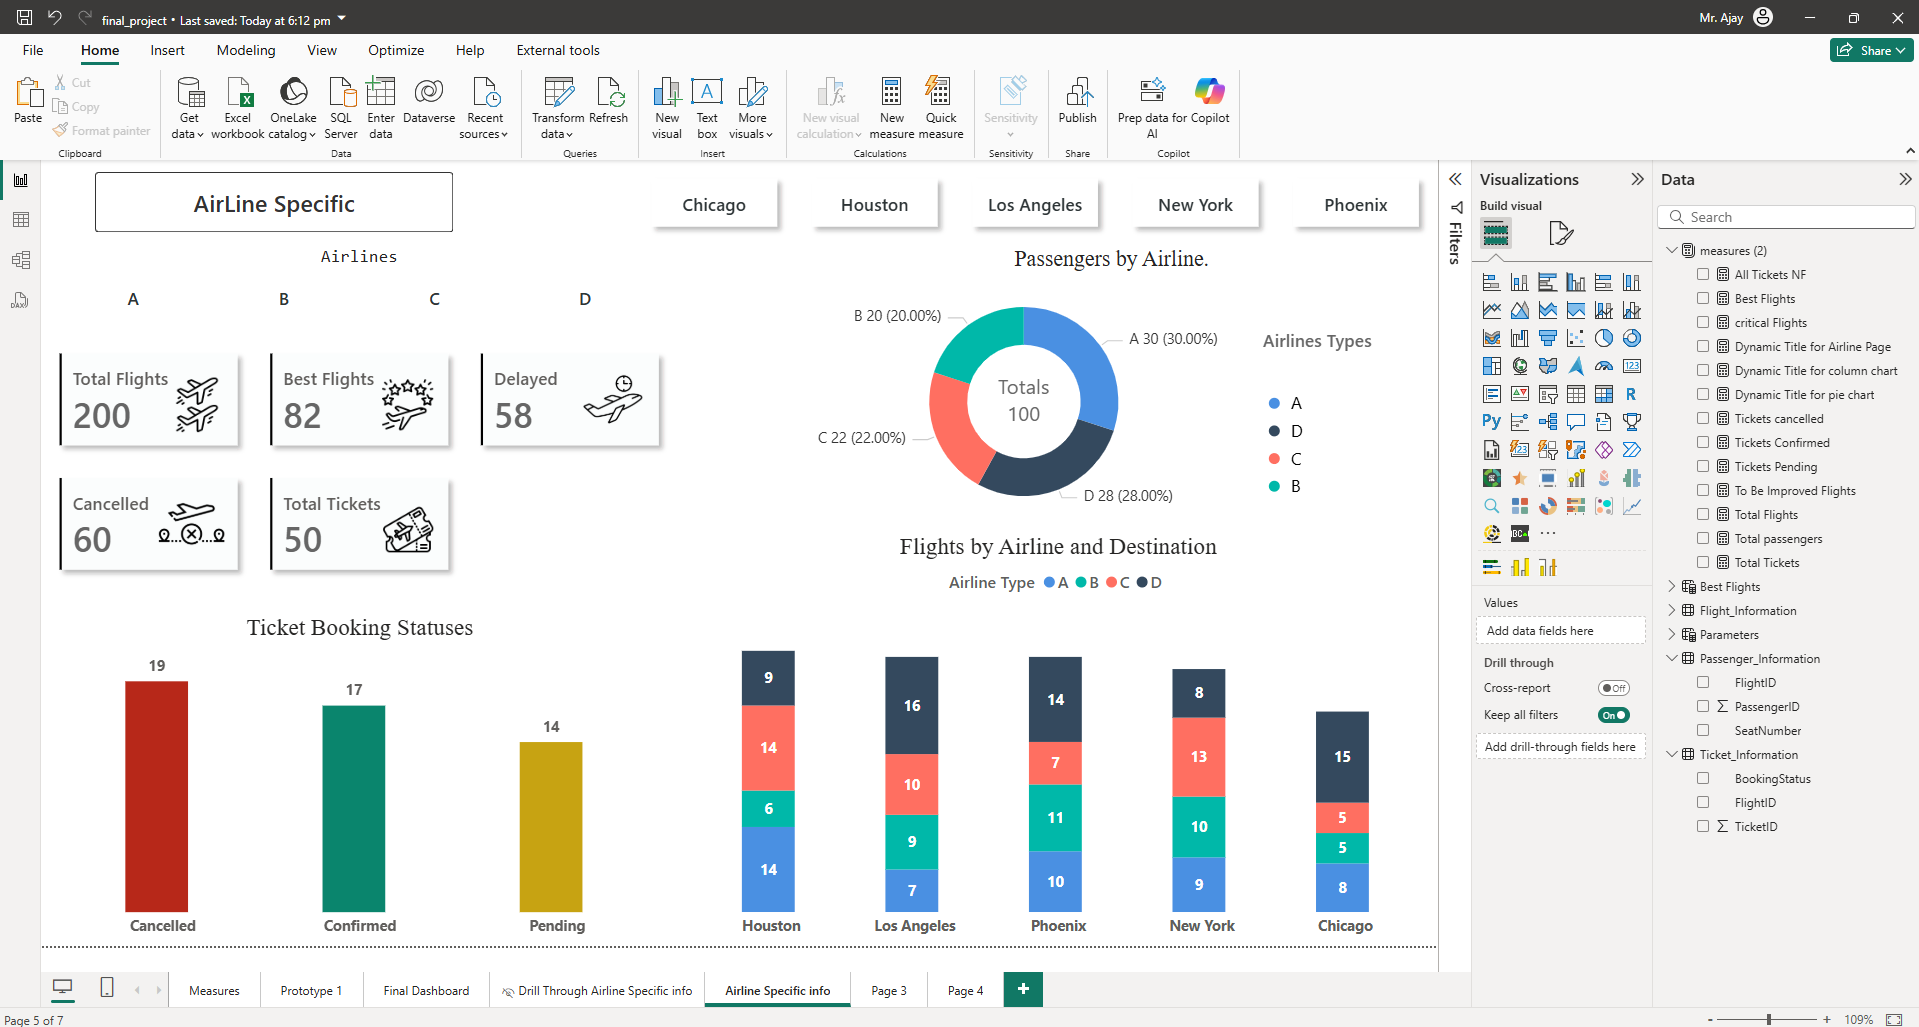

This screenshot's page, from the dashboard's own definition file:
{"tool":"powerbi","page":{"name":"Airline Specific info","canvas":[1280,720],"ordinal":4},"visuals":[{"type":"DonutChartGMO1461469098694","title":"Passengers by Airline.","fields":{"Category":["Flight_Information.Airline Type"],"Y":["CountNonNull(Passenger_Information.PassengerID)"]},"box":[681.3,78.9,598.7,263.1],"z":0},{"type":"columnChart","title":"Flights by Airline and Destination","fields":{"Category":["Flight_Information.Destination"],"Series":["Flight_Information.Airline Type"],"Y":["CountNonNull(Flight_Information.FlightID)"]},"box":[584.8,342.1,695.2,377.9],"z":1000},{"type":"shape","box":[49.9,10.9,328.4,55.3],"z":2000},{"type":"clusteredColumnChart","title":"Ticket Booking Statuses","fields":{"Category":["Ticket_Information.BookingStatus"],"Y":["CountNonNull(Ticket_Information.FlightID)"]},"box":[0,416,584.6,304.2],"z":3000},{"type":"advancedSlicerVisual","title":"Airlines","fields":{"Values":["Flight_Information.Airline Type"]},"box":[14.5,78.9,554.3,69.9],"z":5000},{"type":"advancedSlicerVisual","title":"Destination","fields":{"Values":["Flight_Information.Destination"]},"box":[542.5,0,737.5,78.9],"z":6000},{"type":"cardVisual","fields":{"Data":["measures (2).Total Flights","measures (2).Best Flights","measures (2).To Be Improved Flights","measures (2).critical Flights","measures (2).Total Tickets"]},"box":[0,160.3,584.6,232.7],"z":6001}]}

Visuals, with their boxes on the page's 1280x720 design canvas (x1, y1, x2, y2). These are canvas units, not pixel positions in the 1919x1027 screenshot, which may show the page scaled, cropped or inside an application window:
"Passengers by Airline." DonutChartGMO1461469098694: bbox=[681, 79, 1280, 342]
"Flights by Airline and Destination" columnChart: bbox=[585, 342, 1280, 720]
shape: bbox=[50, 11, 378, 66]
"Ticket Booking Statuses" clusteredColumnChart: bbox=[0, 416, 585, 720]
"Airlines" advancedSlicerVisual: bbox=[14, 79, 569, 149]
"Destination" advancedSlicerVisual: bbox=[542, 0, 1280, 79]
cardVisual - measures (2).Total Flights x measures (2).Best Flights: bbox=[0, 160, 585, 393]
